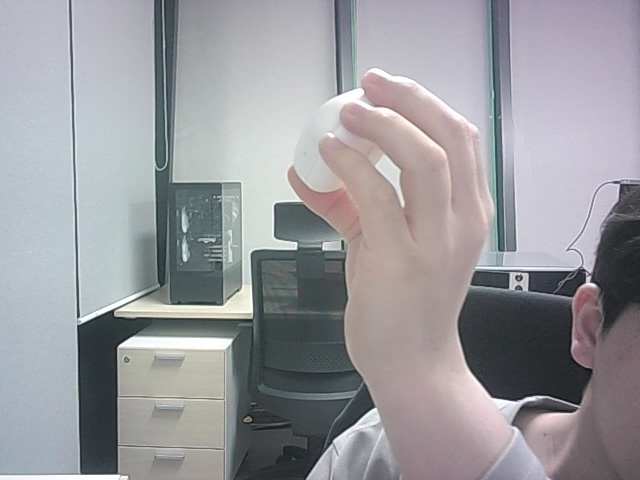case: (293, 88, 380, 192)
